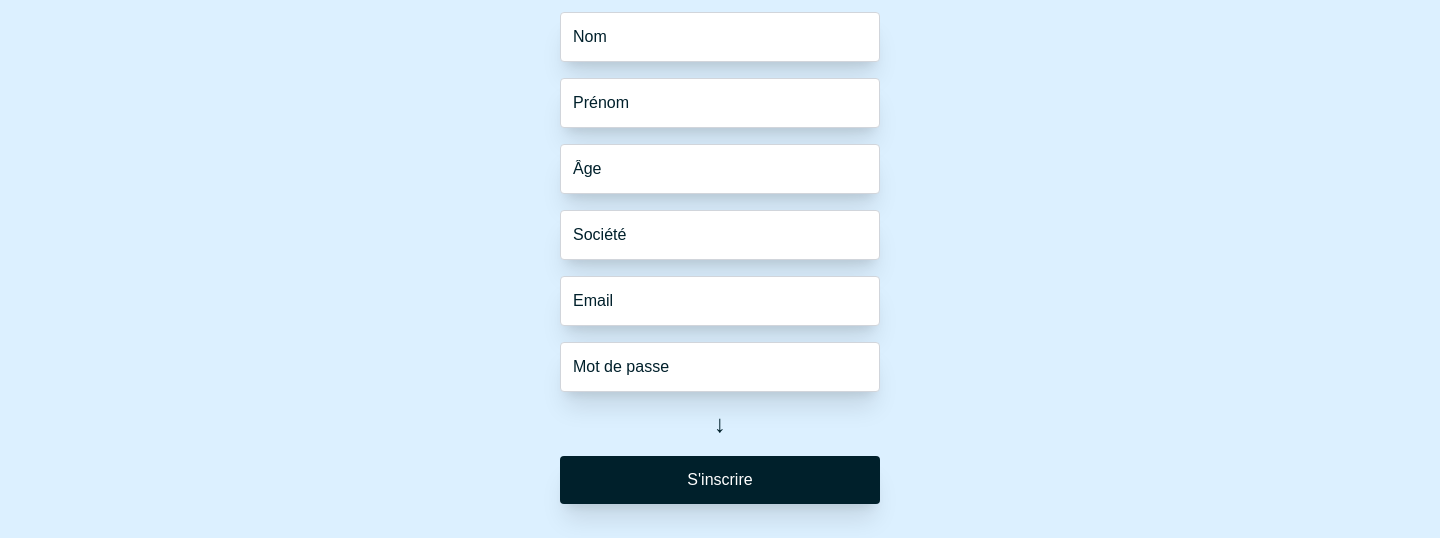
Test case: Register Component › handles registration error from API
# Remplir tous les champs
Type "John" into the field with placeholder "Nom" at (720, 37), box [560,12,880,62]
Type "Doe" into the field with placeholder "Prénom" at (720, 103), box [560,78,880,128]
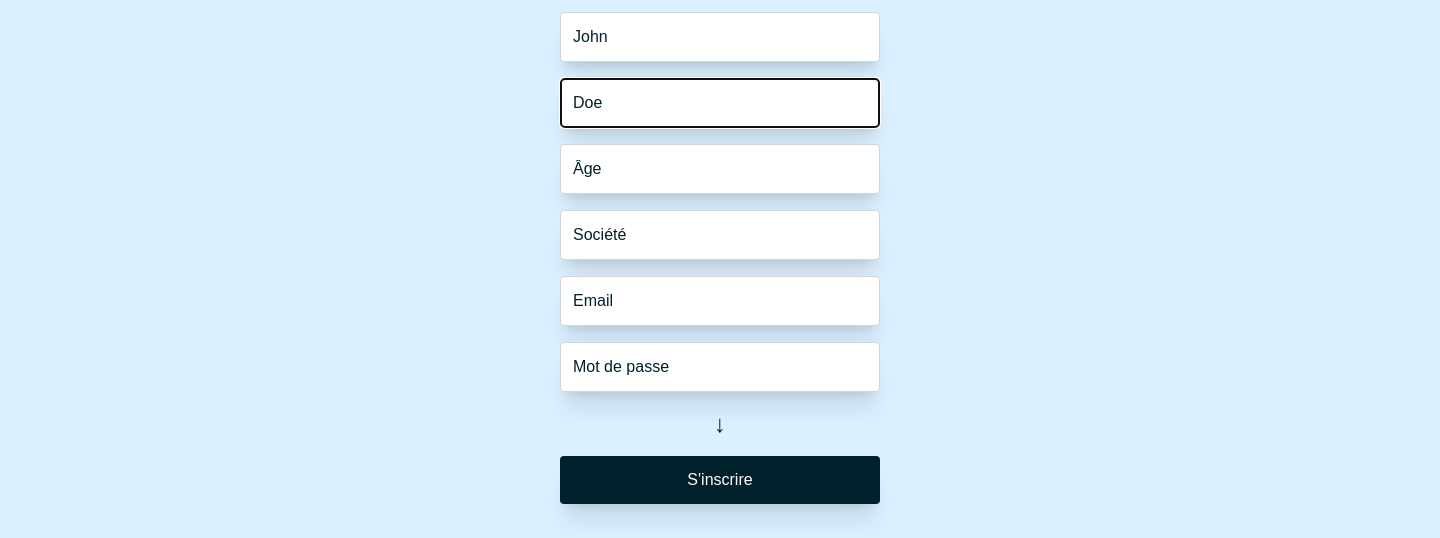
Type "25" into the number field with placeholder "Âge" at (720, 169), box [560,144,880,194]
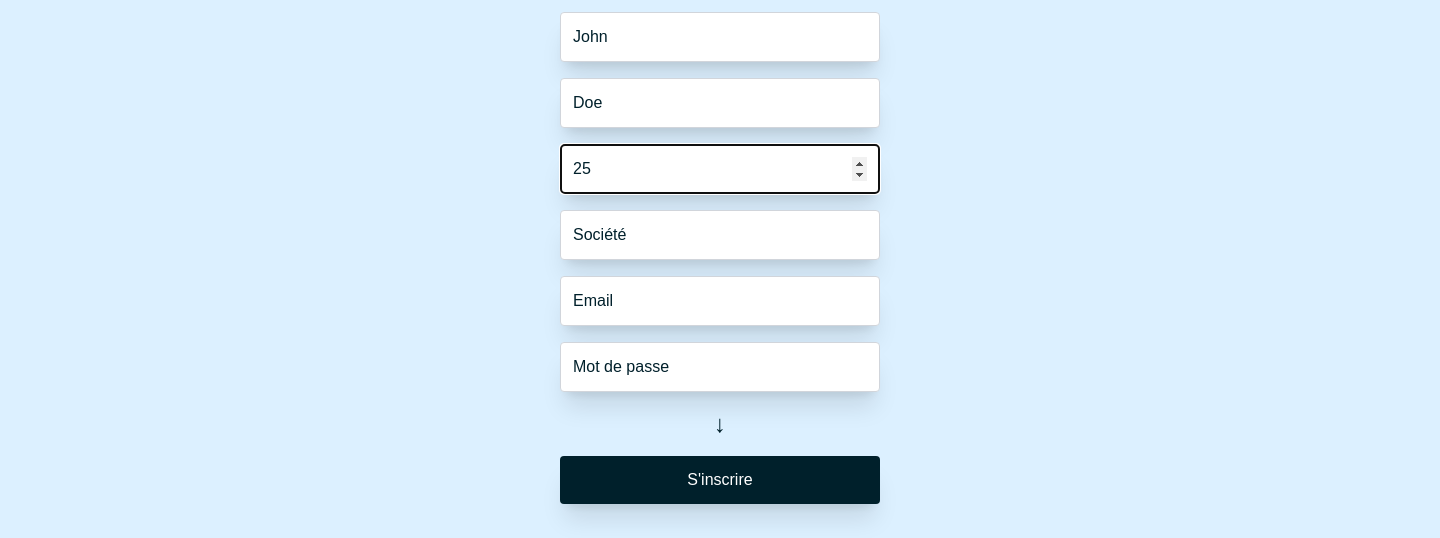
Type "Tech Corp" into the field with placeholder "Société" at (720, 235), box [560,210,880,260]
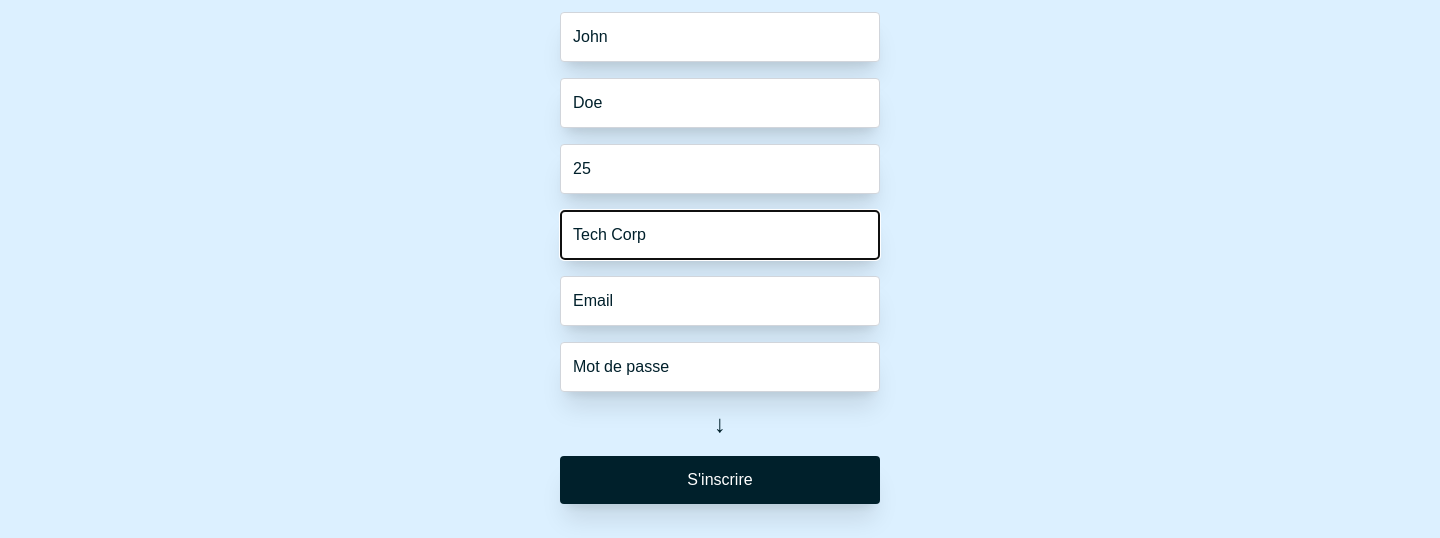
Type "john@example.com" into the field with placeholder "Email" at (720, 301), box [560,276,880,326]
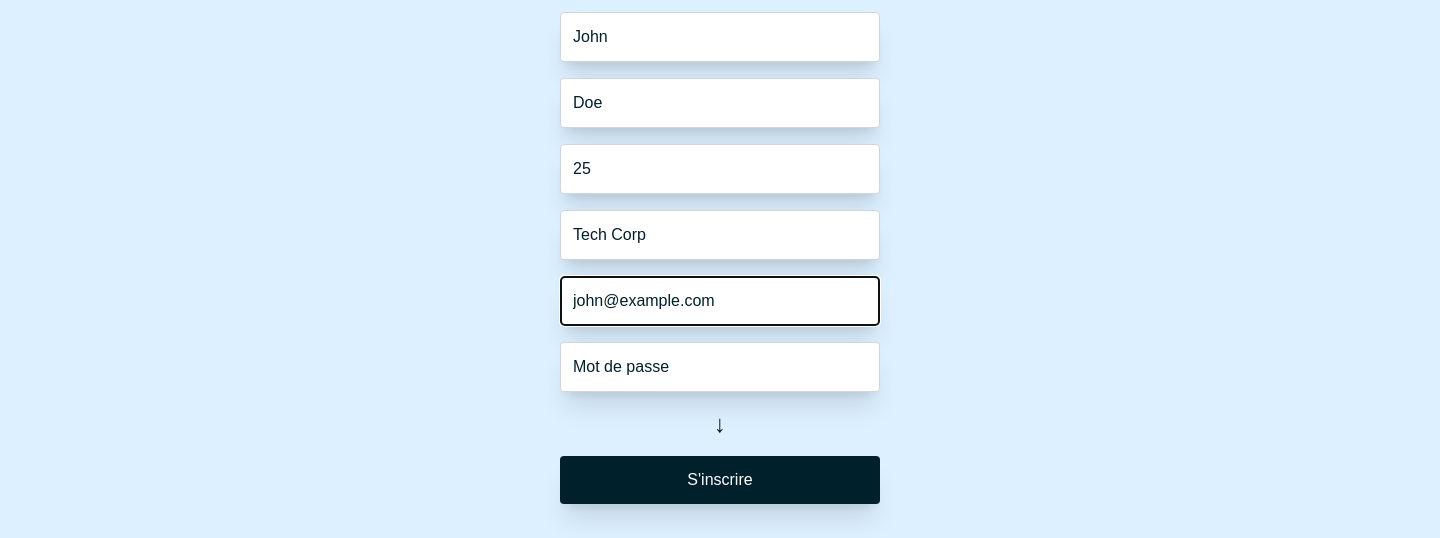
Type "password123" into the password field with placeholder "Mot de passe" at (720, 367), box [560,342,880,392]
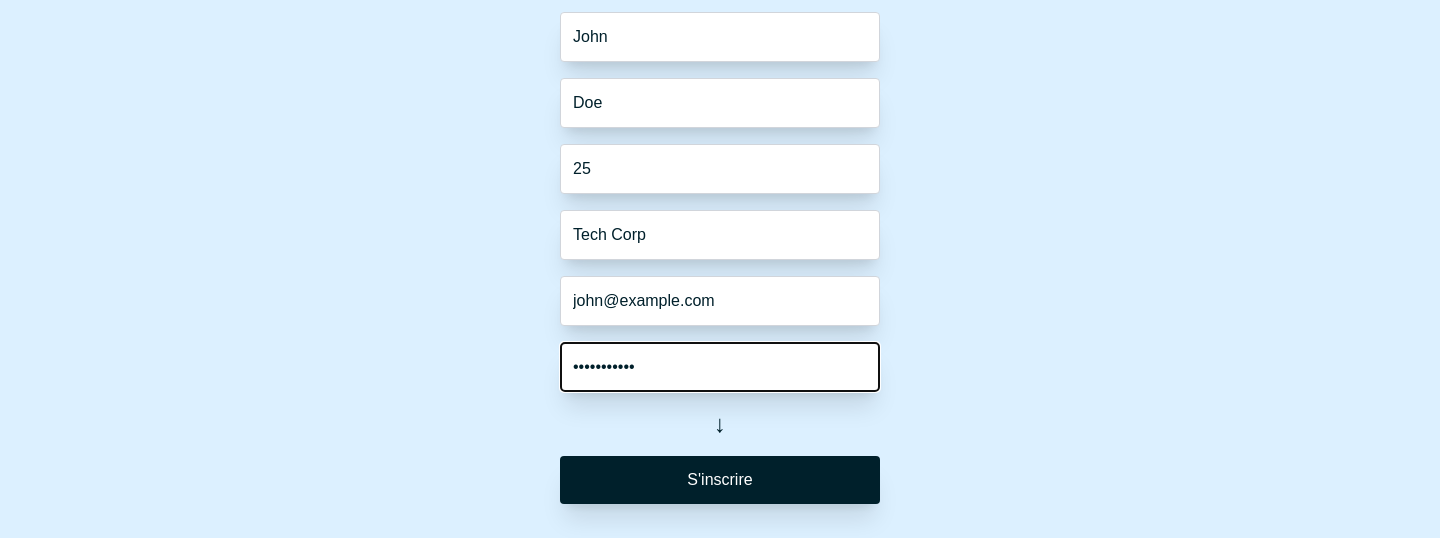
Click the button "S'inscrire" at (720, 480), box [560,456,880,504]
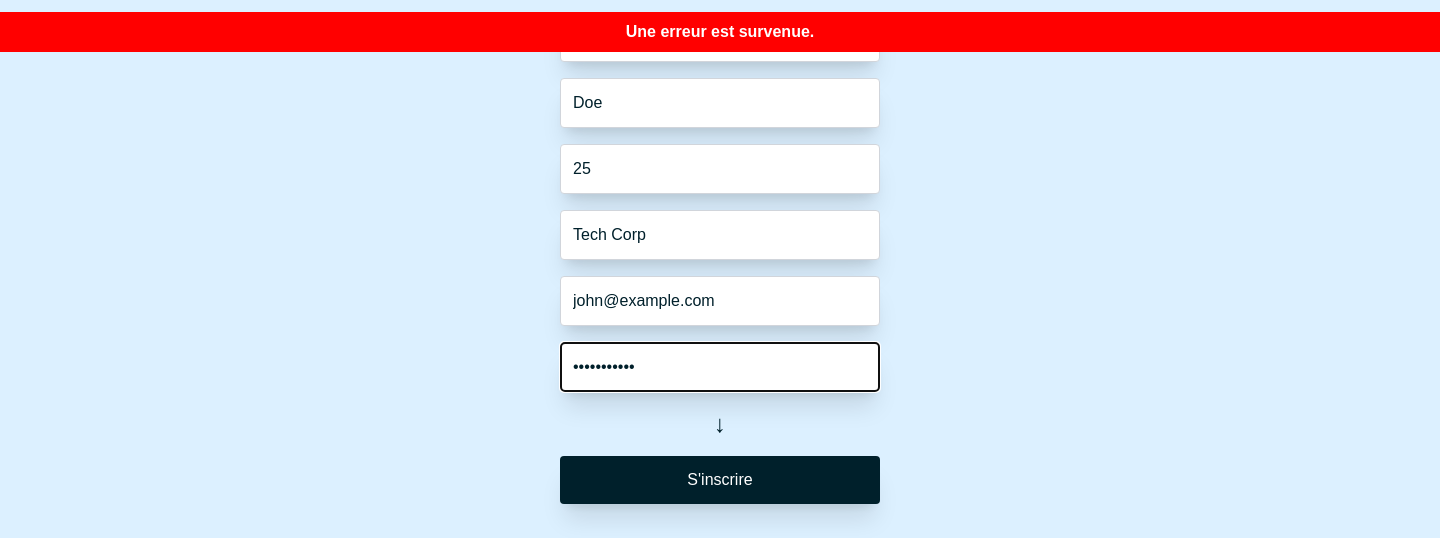
Expected: the text "Une erreur est survenue." is shown, [626,23,814,40]
